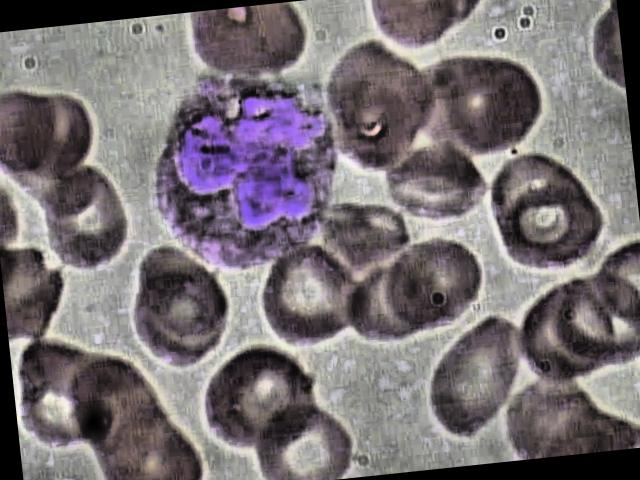RBC: (419, 308, 544, 446), (194, 338, 330, 464), (248, 236, 366, 353), (33, 157, 142, 280), (490, 172, 607, 274), (178, 1, 316, 86), (547, 263, 640, 386), (129, 241, 232, 350), (385, 234, 494, 335), (376, 142, 494, 230), (248, 398, 362, 480)
WBC: (135, 59, 357, 281)
